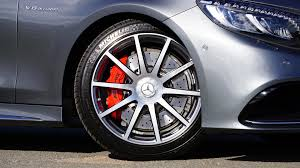wheel: (73, 17, 202, 162)
